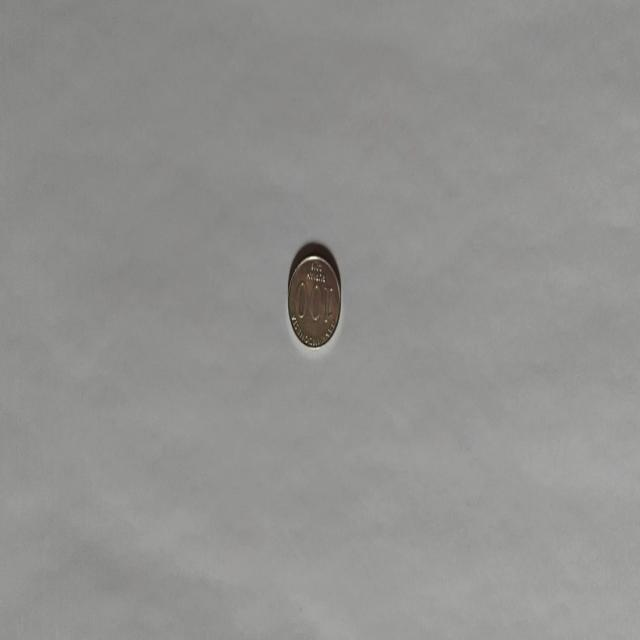seratus rupiah: (286, 252, 342, 350)
